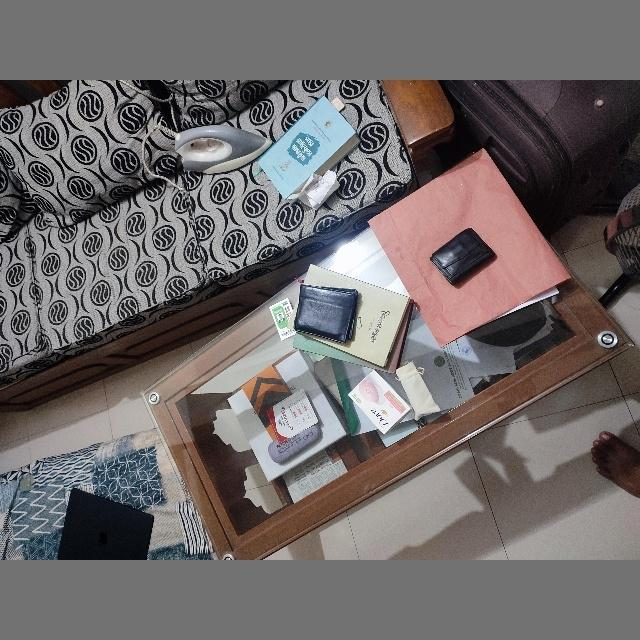Wallet: (332, 402, 476, 458), (273, 296, 373, 352)
